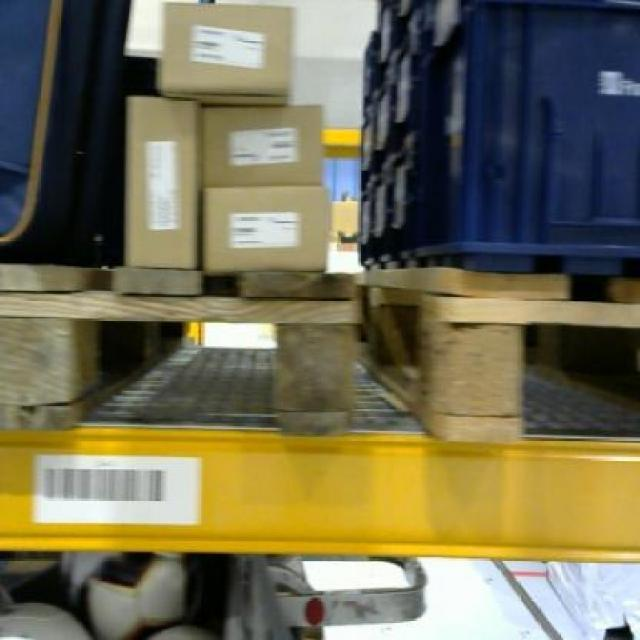box: (154, 0, 298, 102), (198, 185, 337, 290), (124, 93, 199, 272), (202, 99, 326, 184)
